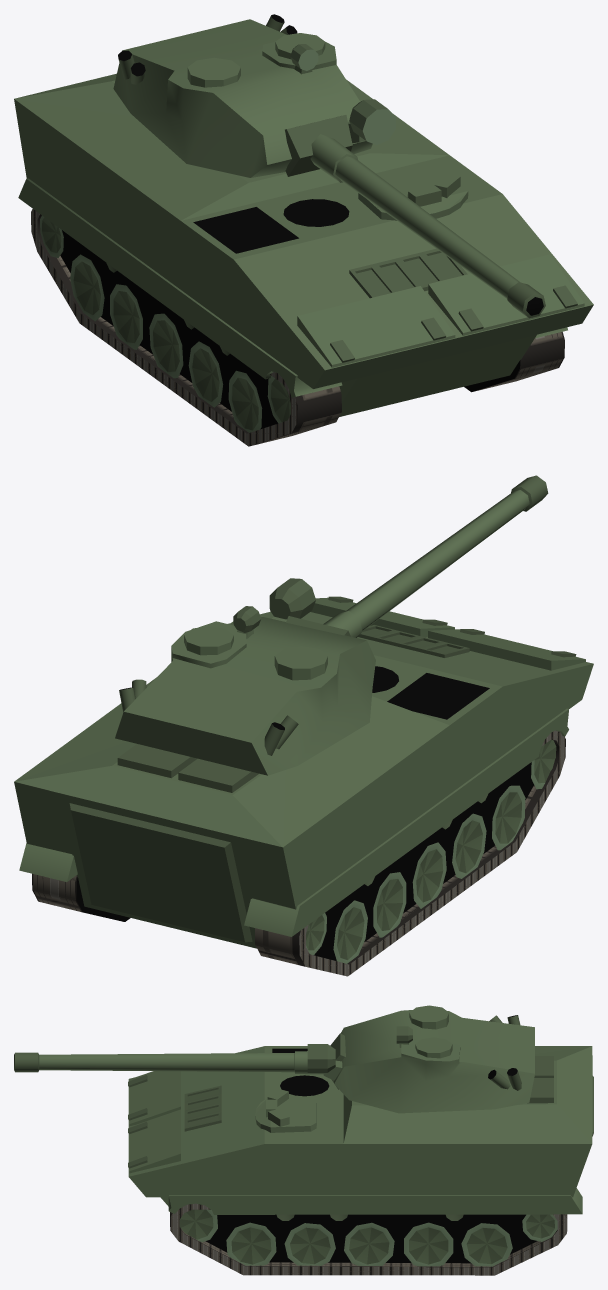
File: sniper.glb
3 renders of one model, top to bottom at view 1: azimuth 30°, elevation 25°; view 2: azimuth 150°, elevation 25°; view 3: azimuth 270°, elevation 25°, orthographic. The views are drawn at different scales.
Visible parts, largest first — view 1: Hull, Turret, Barrel, Track_R, Track_L; view 2: Hull, Turret, Barrel, Track_R, Track_L; view 3: Hull, Turret, Barrel, Track_L.
Boxes of the visible parts, x1=… form: Hull: x1=14, y1=73, x2=593, y2=432; Turret: x1=113, y1=14, x2=395, y2=177; Barrel: x1=285, y1=115, x2=545, y2=318; Track_R: x1=31, y1=209, x2=341, y2=446; Track_L: x1=474, y1=332, x2=564, y2=391; Hull: x1=14, y1=596, x2=593, y2=963; Turret: x1=115, y1=578, x2=375, y2=775; Barrel: x1=286, y1=475, x2=548, y2=637; Track_R: x1=255, y1=730, x2=565, y2=976; Track_L: x1=32, y1=873, x2=82, y2=912; Hull: x1=128, y1=1046, x2=593, y2=1266; Turret: x1=307, y1=1005, x2=534, y2=1113; Barrel: x1=14, y1=1033, x2=345, y2=1089; Track_L: x1=170, y1=1203, x2=567, y2=1275.
Bounding box in the file's own units: 2.92 × 2.89 × 7.22.
Materials: 5 (1 with a texture image).
